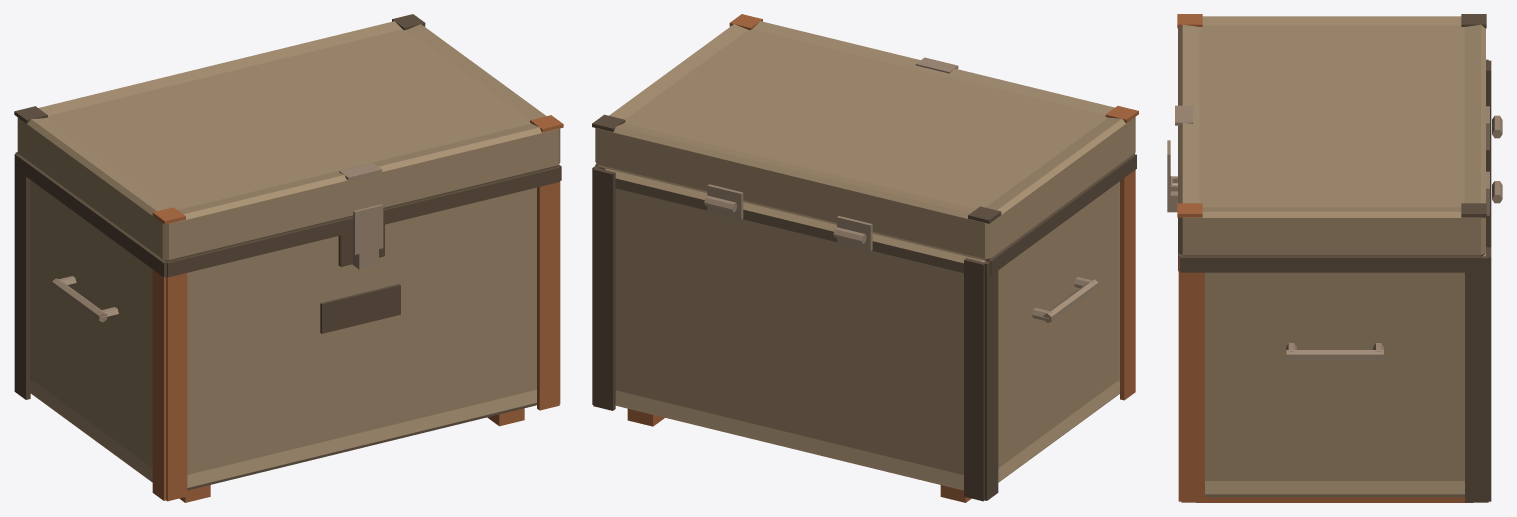
The model's file is loot_cache_saltflat.glb.
3 views of the same model, side by side, from view 1: azimuth 30°, elevation 25°; view 2: azimuth 150°, elevation 25°; view 3: azimuth 270°, elevation 25° (orthographic). The views are drawn at different scales.
Visible parts, largest first — view 1: Cache_Body, Cache_Lid, Cache_Latch; view 2: Cache_Body, Cache_Lid; view 3: Cache_Lid, Cache_Body, Cache_Latch.
Part boxes in pixels (box(x1,y1,x2,y2)): Cache_Body: box(14, 152, 560, 502); Cache_Lid: box(14, 14, 563, 277); Cache_Latch: box(339, 163, 383, 254); Cache_Body: box(592, 165, 1135, 502); Cache_Lid: box(592, 14, 1138, 275); Cache_Lid: box(1177, 14, 1502, 272); Cache_Body: box(1167, 59, 1491, 502); Cache_Latch: box(1167, 105, 1193, 198).
Size of the model in its own units: 1.5 by 1 by 1.
